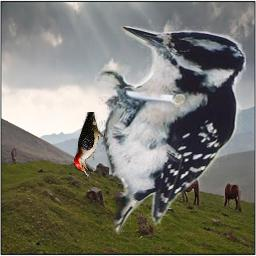Woodpecker: (96, 26, 246, 234), (74, 112, 113, 177)
